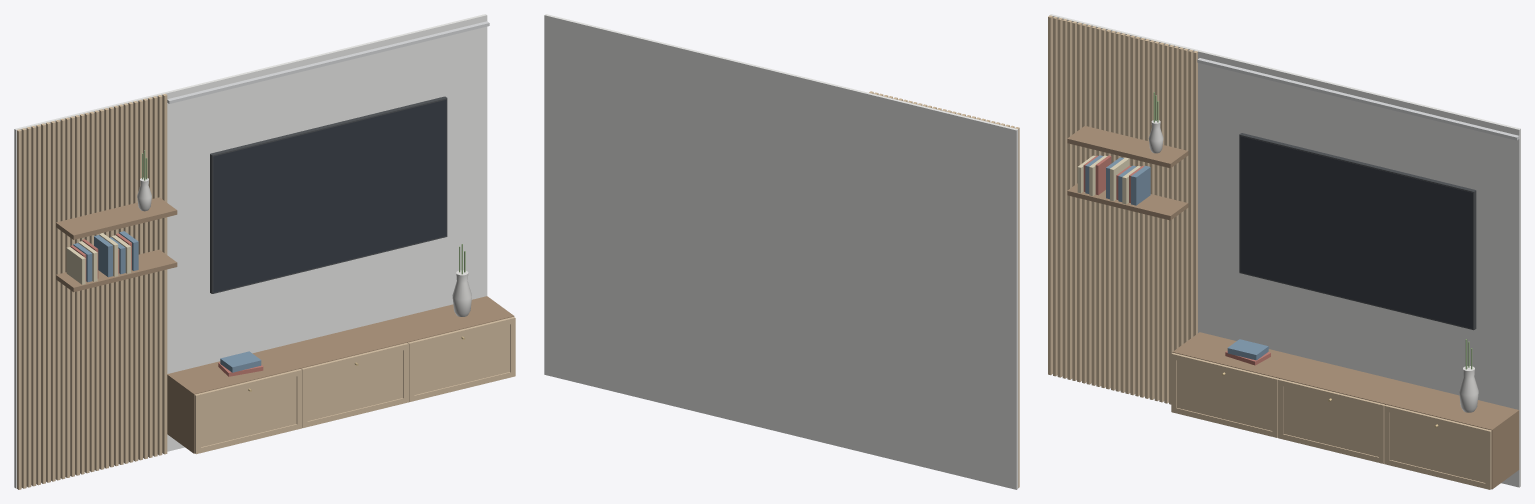
3 views of the same model, side by side, from view 1: azimuth 30°, elevation 25°; view 2: azimuth 150°, elevation 25°; view 3: azimuth 330°, elevation 25° (orthographic).
Visible parts, largest first — view 1: Vách tivi Dài=3300; Sâu=350; view 2: Vách tivi Dài=3300; Sâu=350; view 3: Vách tivi Dài=3300; Sâu=350.
Part boxes in pixels (x1=…): Vách tivi Dài=3300; Sâu=350: x1=14, y1=14, x2=515, y2=489; Vách tivi Dài=3300; Sâu=350: x1=544, y1=14, x2=1019, y2=489; Vách tivi Dài=3300; Sâu=350: x1=1048, y1=14, x2=1520, y2=489.
Bounding box in the file's own units: 3.3 × 2.4 × 0.39.
